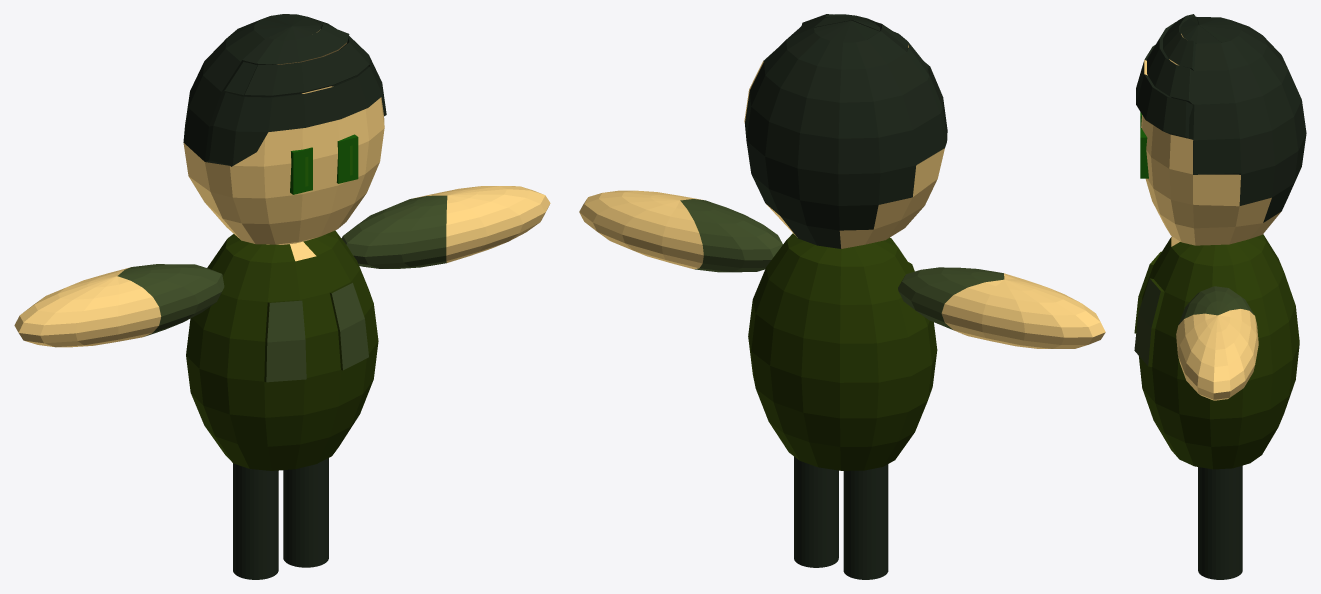
File: Pete.glb
3 views of the same model, side by side, from view 1: azimuth 30°, elevation 25°; view 2: azimuth 150°, elevation 25°; view 3: azimuth 270°, elevation 25° (orthographic). The views are drawn at different scales.
Parts seen in each view (by area): view 1: head.010, body.010, rightArm.010, leftArm.010, rightLeg.010, leftLeg.010; view 2: head.010, body.010, rightArm.010, leftArm.010, rightLeg.010, leftLeg.010; view 3: head.010, body.010, leftArm.010, leftLeg.010.
Part boxes in pixels (box(x1,y1,x2,y2)): head.010: box(183, 14, 386, 244); body.010: box(186, 230, 378, 470); rightArm.010: box(14, 264, 224, 347); leftArm.010: box(341, 186, 550, 268); rightLeg.010: box(233, 463, 278, 579); leftLeg.010: box(283, 458, 328, 567); head.010: box(744, 14, 947, 248); body.010: box(748, 233, 937, 470); rightArm.010: box(898, 267, 1105, 348); leftArm.010: box(579, 190, 782, 272); rightLeg.010: box(843, 464, 888, 579); leftLeg.010: box(794, 456, 838, 567); head.010: box(1136, 14, 1306, 245); body.010: box(1134, 234, 1299, 469); leftArm.010: box(1176, 286, 1258, 400); leftLeg.010: box(1198, 465, 1242, 579).
Size of the model in its own units: 1.68 by 1.65 by 0.4808.
